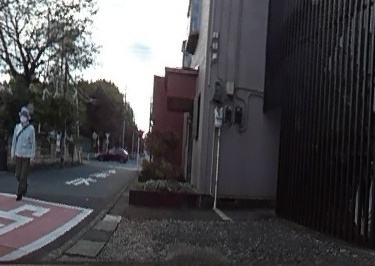person: (7, 103, 35, 198)
